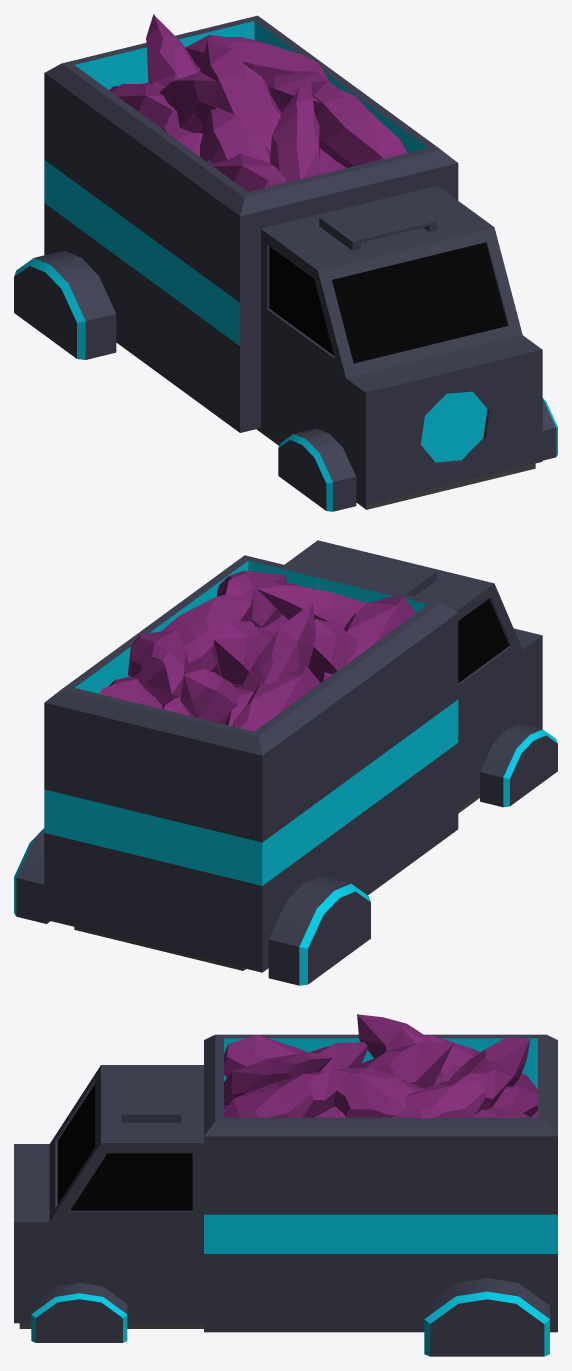
File: truck_3.fbx
3 views of the same model, one above another, from view 1: azimuth 30°, elevation 25°; view 2: azimuth 150°, elevation 25°; view 3: azimuth 270°, elevation 25° (orthographic). The views are drawn at different scales.
Visible parts, largest first — view 1: polySurface219, group14; view 2: polySurface219, group14; view 3: polySurface219, group14.
Part boxes in pixels (x1,y1,x2,y2): polySurface219: [14, 15, 557, 511]; group14: [109, 14, 407, 191]; polySurface219: [14, 540, 557, 985]; group14: [99, 570, 415, 731]; polySurface219: [14, 1034, 557, 1356]; group14: [224, 1014, 537, 1118].
Size of the model in its own units: 537 by 495 by 952.
